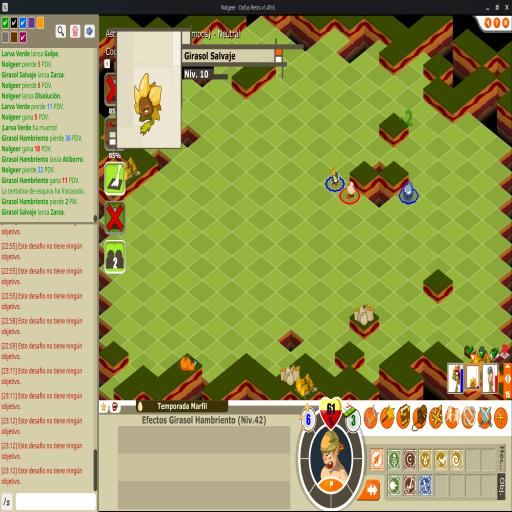Enemigos: (402, 180, 416, 202), (329, 166, 342, 189)
Personaje: (346, 180, 356, 200)
